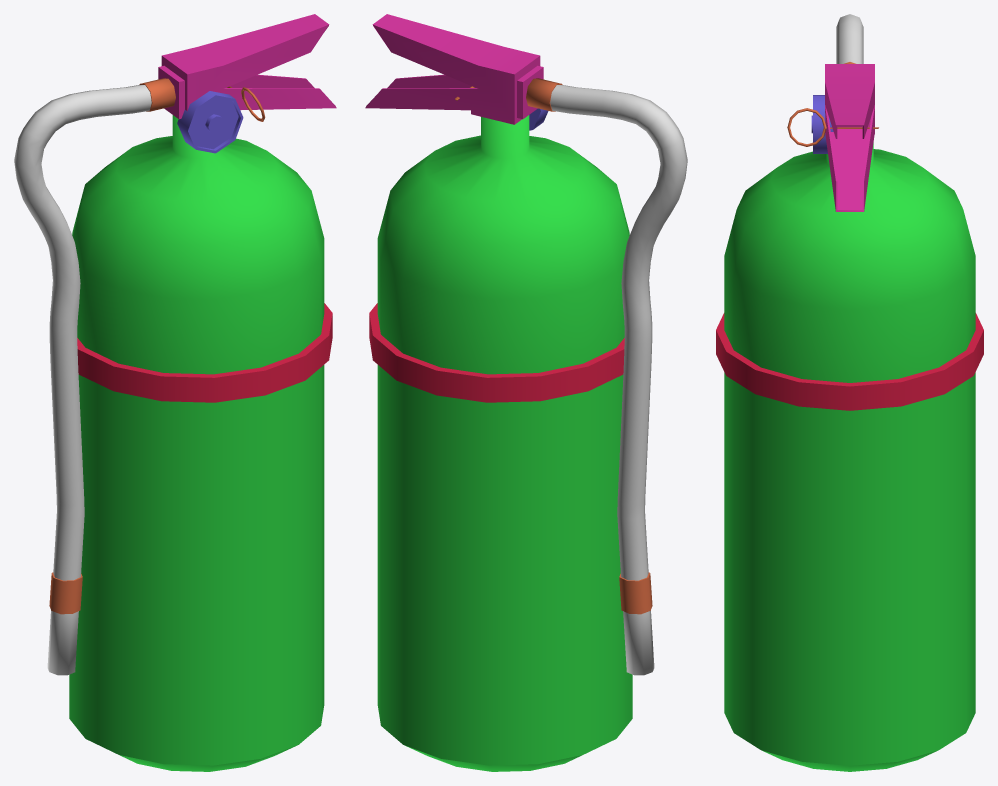
Rendered from fire_extinguisher.fbx.
The picture shows the model from 3 angles, left to right: view 1: azimuth 30°, elevation 25°; view 2: azimuth 150°, elevation 25°; view 3: azimuth 270°, elevation 25°; orthographic projection. The views are drawn at different scales.
Visible parts, largest first — view 1: Hose; view 2: Hose; view 3: Hose.
Boxes of the visible parts, x1,y1,x2,y2 form: Hose: (14, 14, 336, 771); Hose: (365, 14, 687, 771); Hose: (716, 14, 983, 771).
Bounding box in the file's own units: 33.79 × 70.15 × 25.56.
